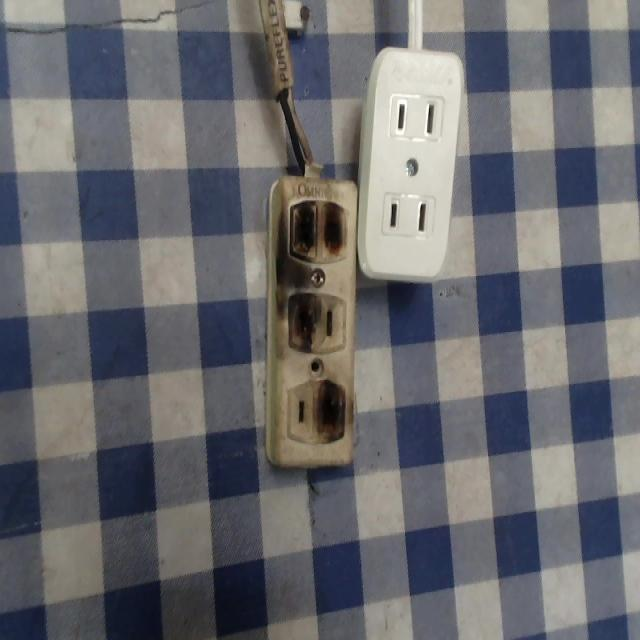-: (280, 188, 351, 268), (311, 372, 352, 445), (280, 285, 318, 359)
